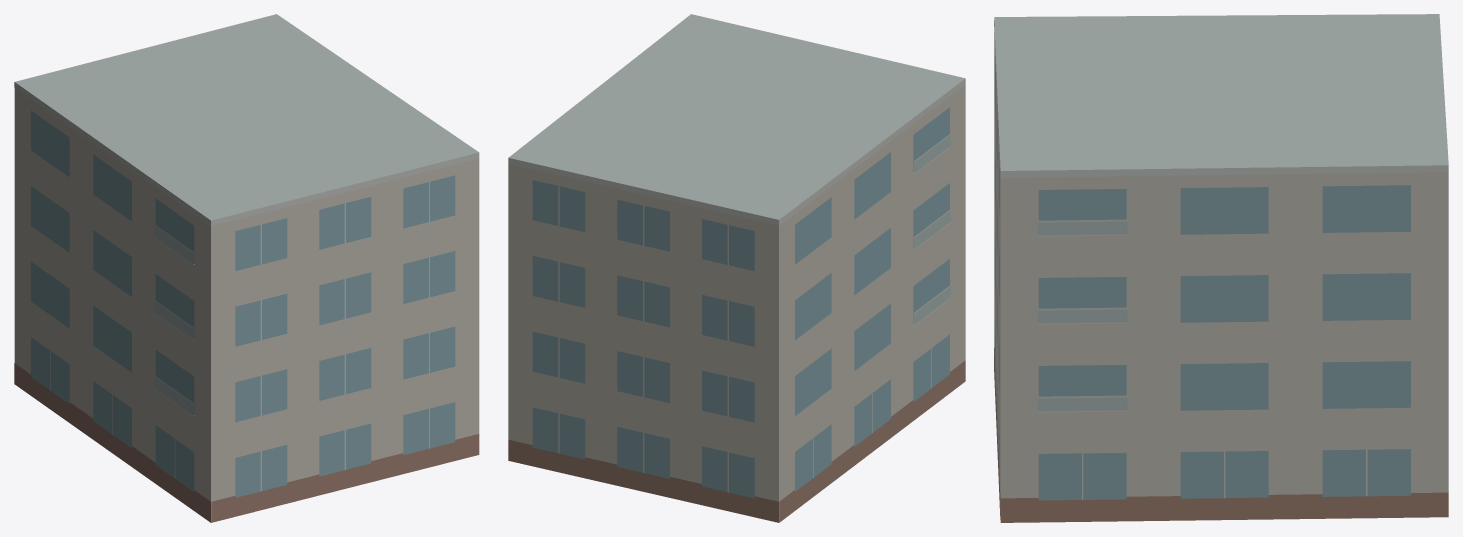
The model's file is survey-upis-32496426.glb.
The picture shows the model from 3 angles, left to right: view 1: azimuth 30°, elevation 25°; view 2: azimuth 150°, elevation 25°; view 3: azimuth 270°, elevation 25°; orthographic projection. The views are drawn at different scales.
Visible parts, largest first — view 1: survey-upis-32496426.tmp; view 2: survey-upis-32496426.tmp; view 3: survey-upis-32496426.tmp.
Part boxes in pixels (x1,y1,x2,y2): survey-upis-32496426.tmp: (14, 14, 479, 522); survey-upis-32496426.tmp: (508, 14, 965, 522); survey-upis-32496426.tmp: (994, 14, 1448, 522).
Size of the model in its own units: 11.87 by 12.4 by 14.53.
